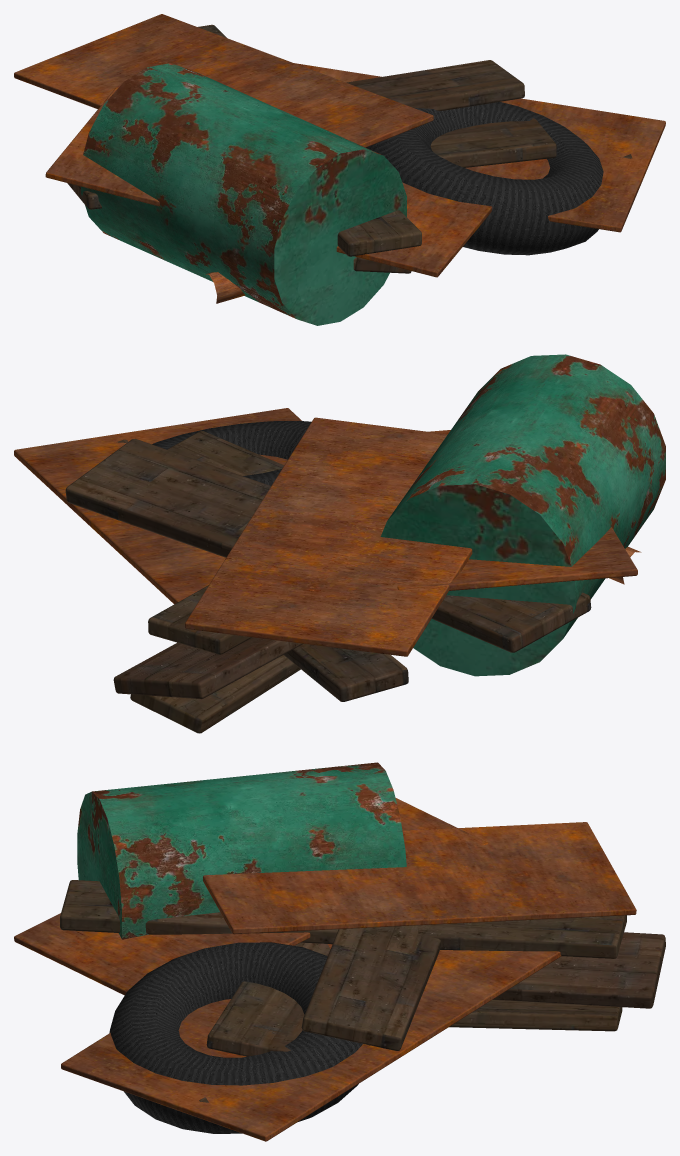
Rendered from junk_heap.glb.
The picture shows the model from 3 angles, top to bottom: view 1: azimuth 30°, elevation 25°; view 2: azimuth 150°, elevation 25°; view 3: azimuth 270°, elevation 25°; orthographic projection. The views are drawn at different scales.
Parts seen in each view (by area): view 1: prop; view 2: prop; view 3: prop.
Boxes of the visible parts, <box> form: prop: <box>14,14,665,325</box>; prop: <box>14,354,665,733</box>; prop: <box>14,762,665,1141</box>.
Bounding box in the file's own units: 1.23 × 0.3567 × 1.14.
Materials: 4 (4 with a texture image).
